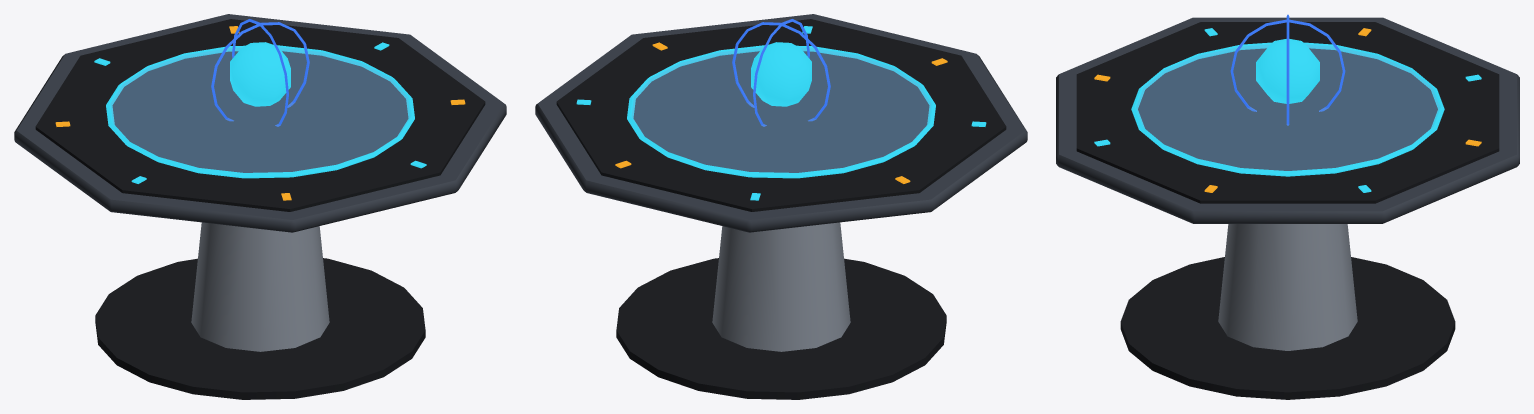
File: table_briefing_table.glb
The picture shows the model from 3 angles, left to right: view 1: azimuth 30°, elevation 25°; view 2: azimuth 150°, elevation 25°; view 3: azimuth 270°, elevation 25°; orthographic projection.
Parts seen in each view (by area): view 1: table_briefing_table; view 2: table_briefing_table; view 3: table_briefing_table.
Boxes of the visible parts, x1,y1,x2,y2 form: table_briefing_table: [14, 14, 506, 399]; table_briefing_table: [535, 14, 1027, 399]; table_briefing_table: [1056, 14, 1519, 399].
Bounding box in the file's own units: 1.66 × 1.23 × 1.66.
